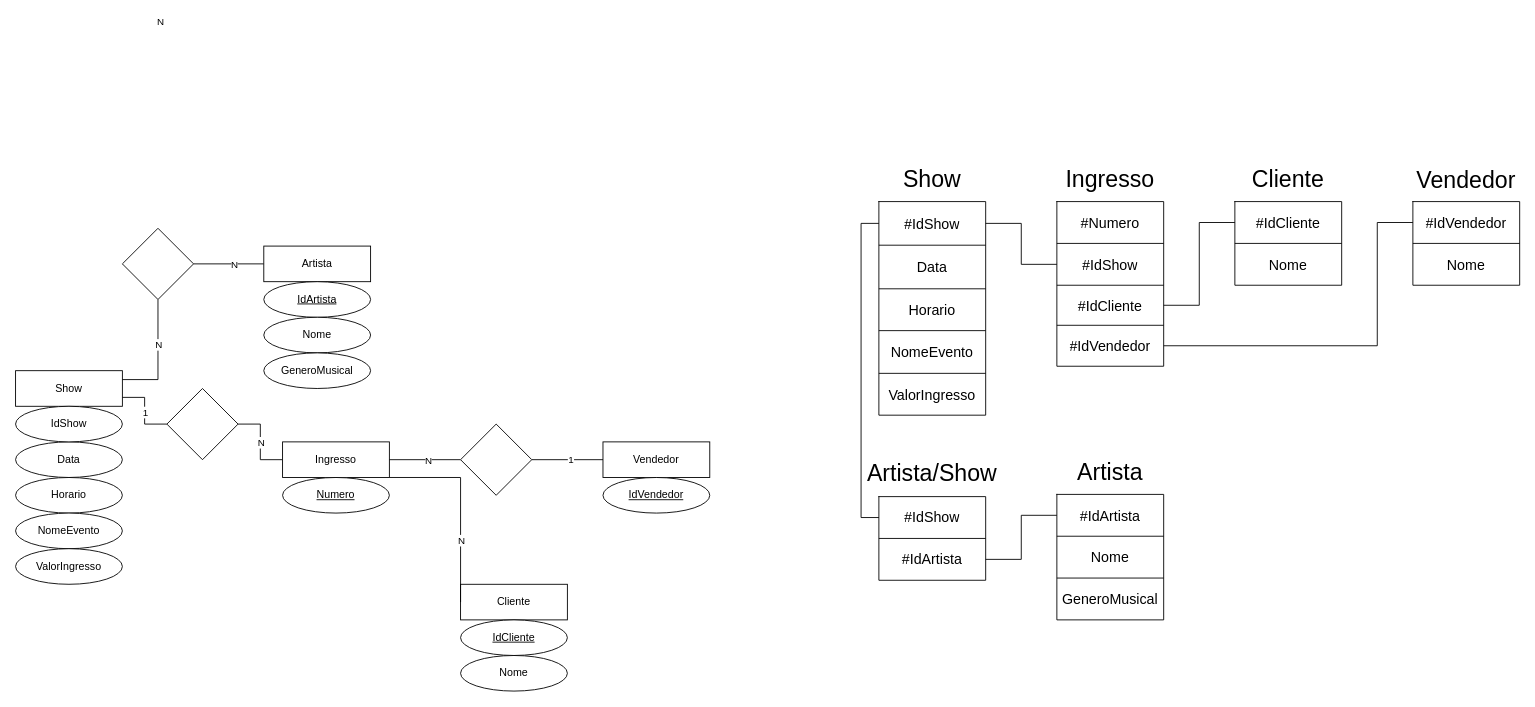
The diagram is 1535 pixels wide and 707 high, and some of its shapes have lost their labels. Each missing label, with the box of its shape:
Faz: (121, 227, 194, 299)
Tem: (166, 388, 238, 460)
Vende: (460, 423, 532, 495)
